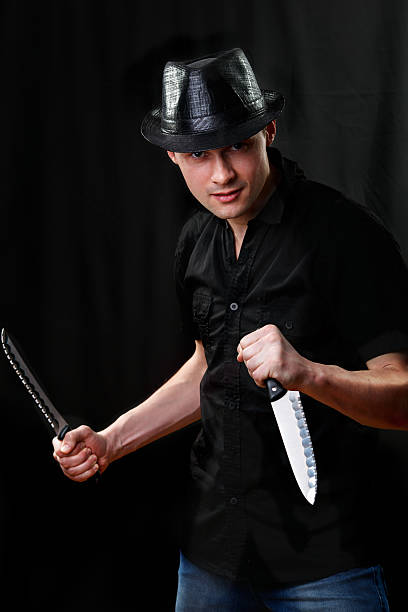knife: (0, 327, 70, 439), (265, 375, 323, 504)
